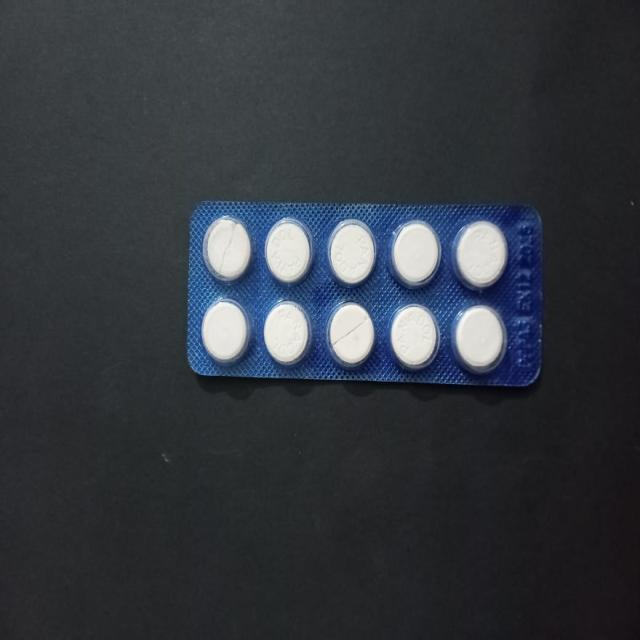defect: (324, 298, 376, 372), (202, 214, 254, 286)
